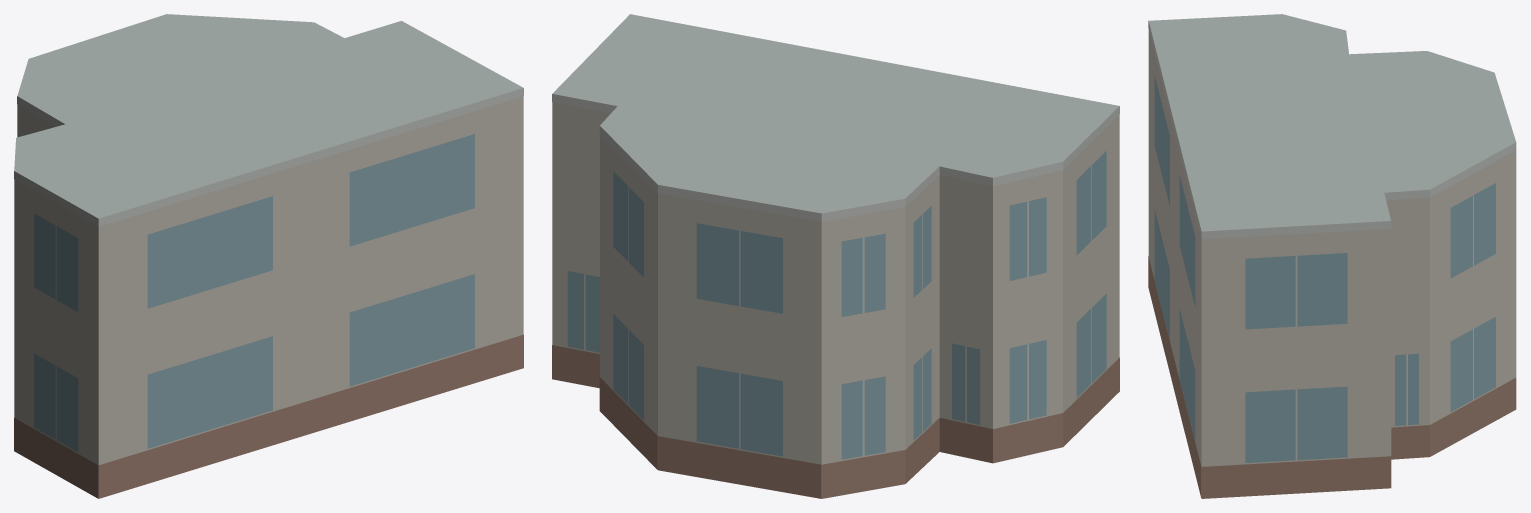
The model's file is survey-upis-32704765.glb.
The picture shows the model from 3 angles, left to right: view 1: azimuth 30°, elevation 25°; view 2: azimuth 150°, elevation 25°; view 3: azimuth 270°, elevation 25°; orthographic projection. The views are drawn at different scales.
Visible parts, largest first — view 1: survey-upis-32704765.tmp; view 2: survey-upis-32704765.tmp; view 3: survey-upis-32704765.tmp.
Part boxes in pixels (box(x1,y1,x2,y2)): survey-upis-32704765.tmp: box(14, 14, 523, 498); survey-upis-32704765.tmp: box(552, 14, 1119, 498); survey-upis-32704765.tmp: box(1148, 14, 1516, 498).
Bounding box in the file's own units: 14.5 × 8.3 × 10.36.
